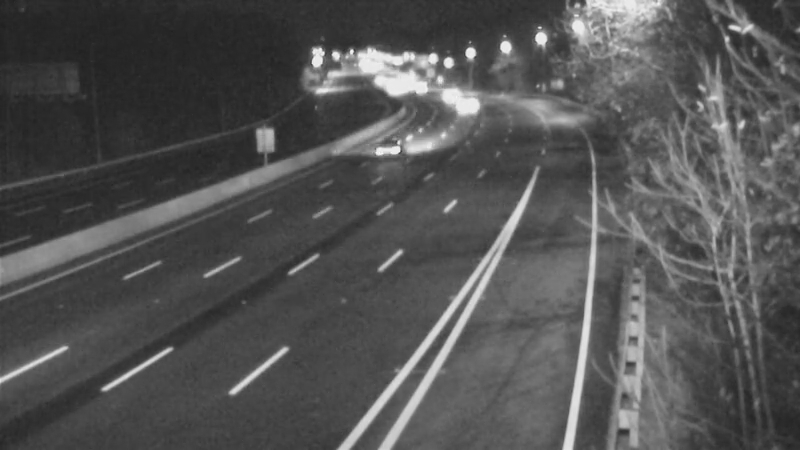vehicle: (420, 68, 470, 118), (442, 88, 492, 138), (360, 124, 410, 174)
